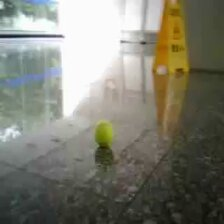tennis: (94, 120, 113, 146)
